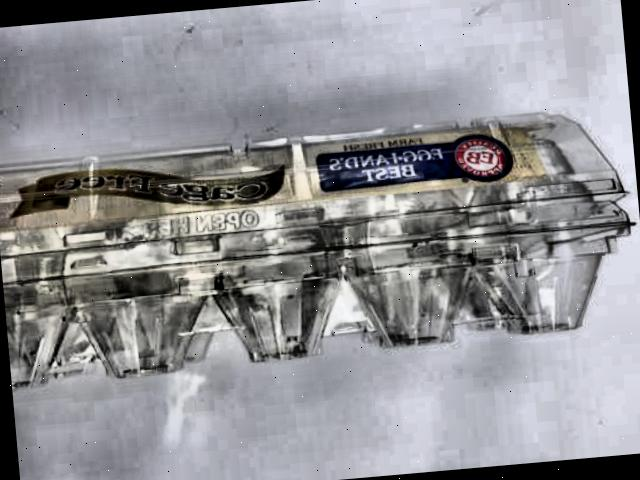Plastic: (0, 94, 640, 403)
